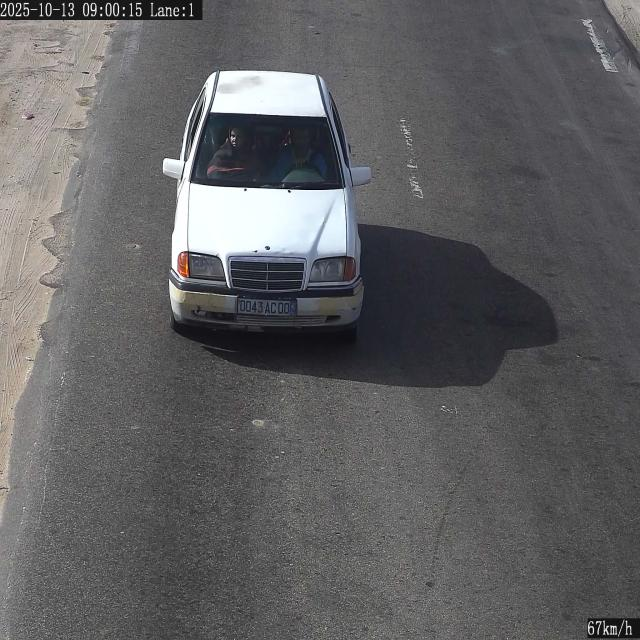BUS: (237, 298, 296, 317)
